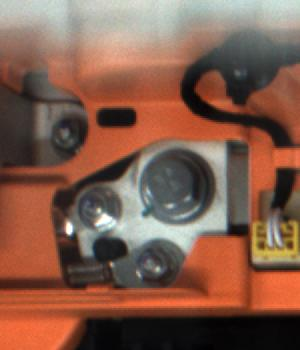nut_b: (138, 149, 211, 220)
